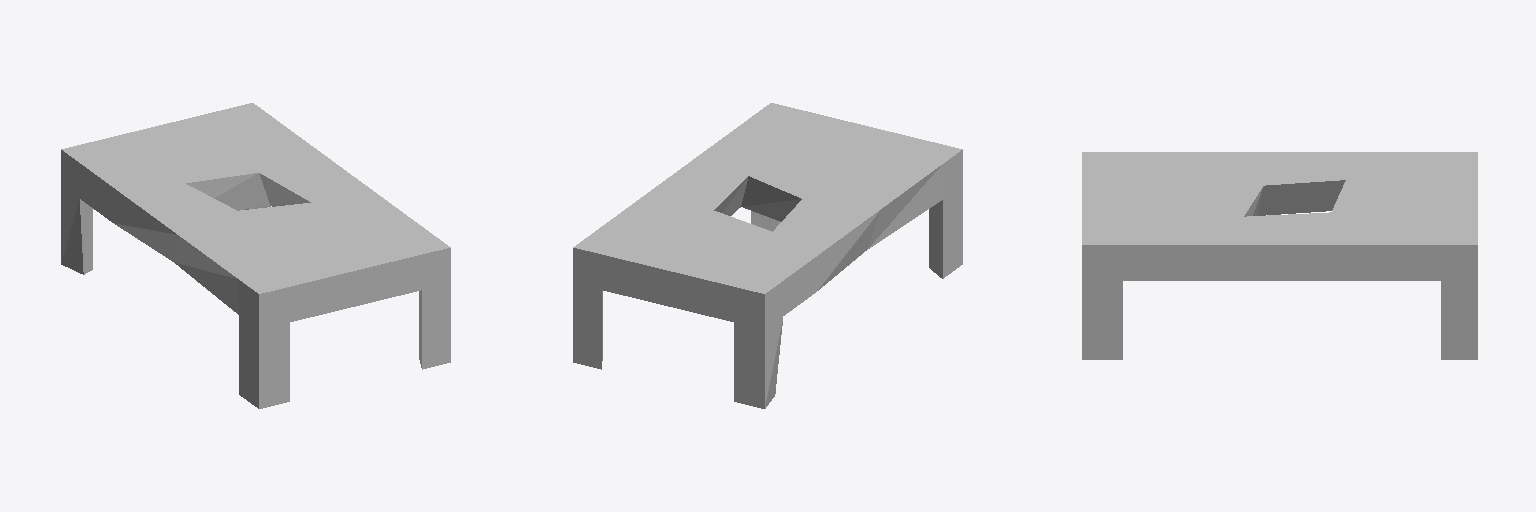
File: tafel met gat.obj
The picture shows the model from 3 angles: view 1: azimuth 30°, elevation 25°; view 2: azimuth 150°, elevation 25°; view 3: azimuth 270°, elevation 25°; orthographic projection.
Parts seen in each view (by area): view 1: Box001; view 2: Box001; view 3: Box001.
Boxes of the visible parts, x1,y1,x2,y2 form: Box001: [61, 103, 450, 408]; Box001: [573, 103, 962, 408]; Box001: [1082, 152, 1477, 359].
Bounding box in the file's own units: 1.09 × 0.6236 × 1.94.